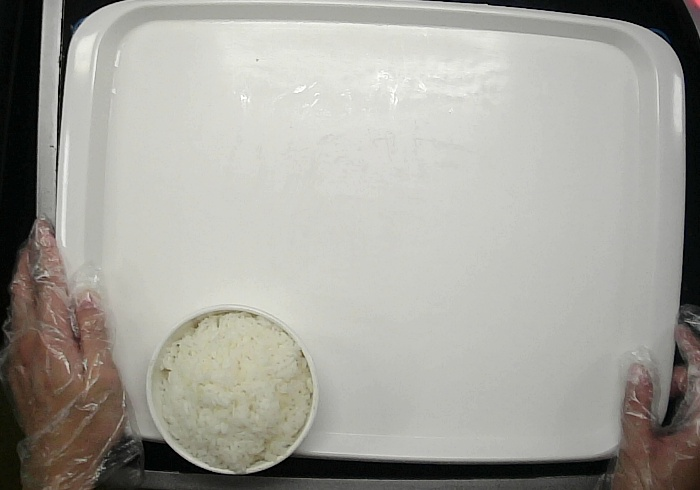HZYJPL-Fan_Wan: (145, 303, 319, 475)
